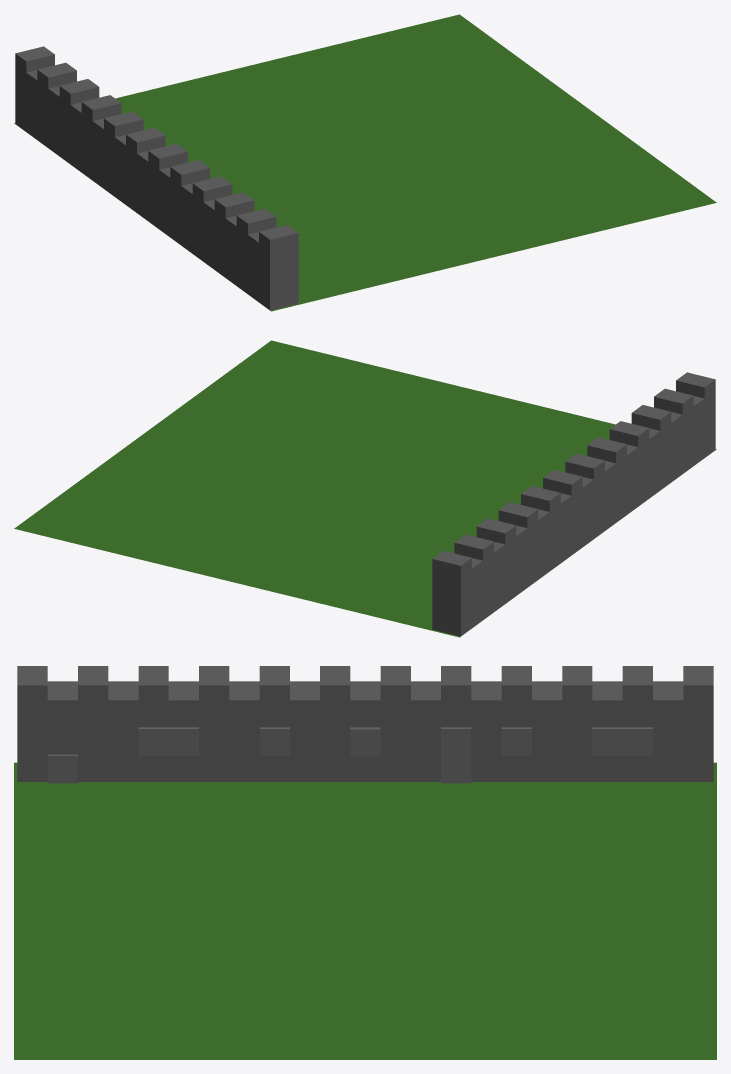
The model's file is Tło.fbx.
3 views of the same model, one above another, from view 1: azimuth 30°, elevation 25°; view 2: azimuth 150°, elevation 25°; view 3: azimuth 270°, elevation 25° (orthographic). The views are drawn at different scales.
Parts seen in each view (by area): view 1: Cube; view 2: Cube; view 3: Cube.
Boxes of the visible parts, <box> form: Cube: <box>14,14,716,311</box>; Cube: <box>14,340,716,637</box>; Cube: <box>14,666,716,1059</box>.
Bounding box in the file's own units: 9900 × 1502 × 9900.
